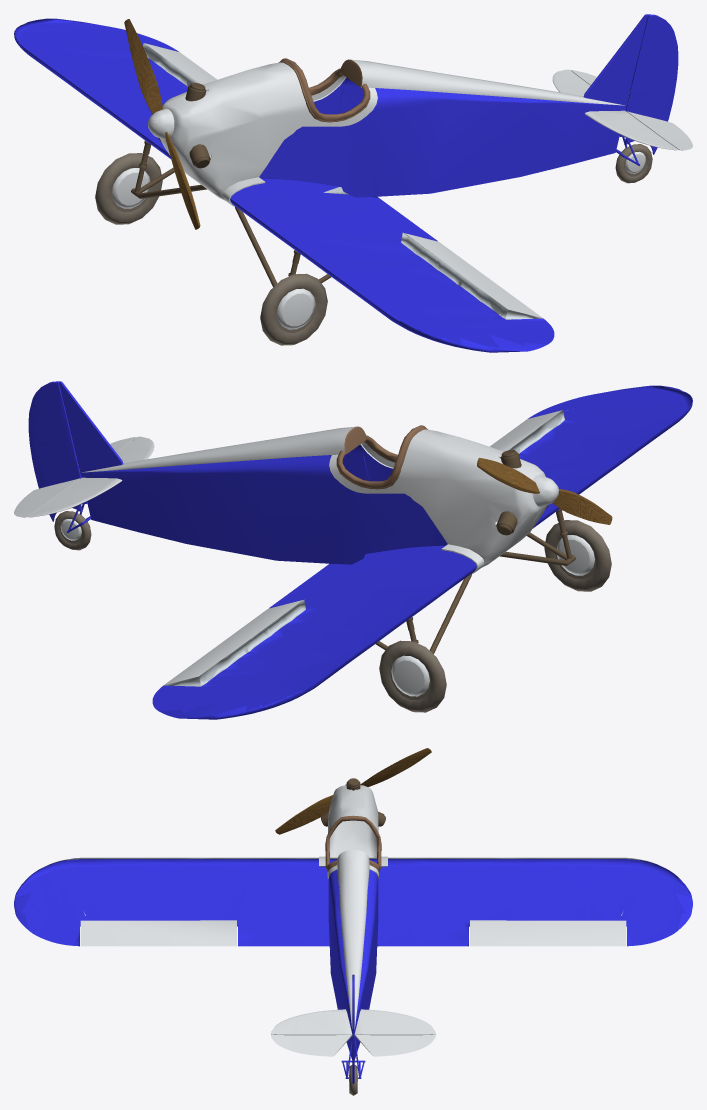
The model's file is airplane.gltf.
3 renders of one model, top to bottom at view 1: azimuth 30°, elevation 25°; view 2: azimuth 150°, elevation 25°; view 3: azimuth 270°, elevation 25°, orthographic. The views are drawn at different scales.
Visible parts, largest first — view 1: 0 1, 0 9, 0 10, 0 3, 0 5, 0 12, 0 7, 0 6, 0 11, 0 2, 0 4, 0 8; view 2: 0 1, 0 8, 0 10, 0 3, 0 5, 0 13, 0 7, 0 6, 0 2, 0 11, 0 4, 0 9; view 3: 0 1, 0 3, 0 10, 0 9, 0 8, 0 11, 0 2, 0 4.
Part boxes in pixels (left/top/right/bottom): 0 1: left=14, top=18, right=554, bottom=352; 0 9: left=259, top=88, right=626, bottom=197; 0 10: left=160, top=59, right=624, bottom=206; 0 3: left=112, top=43, right=692, bottom=329; 0 5: left=95, top=144, right=652, bottom=345; 0 12: left=619, top=14, right=678, bottom=154; 0 7: left=583, top=14, right=647, bottom=165; 0 6: left=131, top=82, right=331, bottom=287; 0 11: left=124, top=19, right=200, bottom=229; 0 2: left=22, top=22, right=543, bottom=319; 0 4: left=279, top=58, right=370, bottom=122; 0 8: left=314, top=77, right=363, bottom=114; 0 1: left=152, top=385, right=692, bottom=719; 0 8: left=80, top=455, right=447, bottom=564; 0 10: left=82, top=426, right=546, bottom=573; 0 3: left=14, top=410, right=594, bottom=696; 0 5: left=54, top=511, right=611, bottom=712; 0 13: left=28, top=381, right=86, bottom=521; 0 7: left=59, top=381, right=123, bottom=532; 0 6: left=375, top=449, right=575, bottom=654; 0 2: left=163, top=389, right=684, bottom=686; 0 11: left=477, top=457, right=612, bottom=524; 0 4: left=336, top=425, right=427, bottom=489; 0 9: left=343, top=444, right=392, bottom=481; 0 1: left=14, top=859, right=692, bottom=946; 0 3: left=80, top=784, right=626, bottom=1081; 0 10: left=319, top=785, right=387, bottom=1028; 0 9: left=328, top=870, right=352, bottom=1059; 0 8: left=354, top=870, right=378, bottom=1059; 0 11: left=275, top=748, right=431, bottom=834; 0 2: left=43, top=857, right=663, bottom=915; 0 4: left=325, top=815, right=381, bottom=871.
Size of the model in its own units: 0.4632 by 0.1989 by 0.6819.
Materials: 7 (1 with a texture image).
